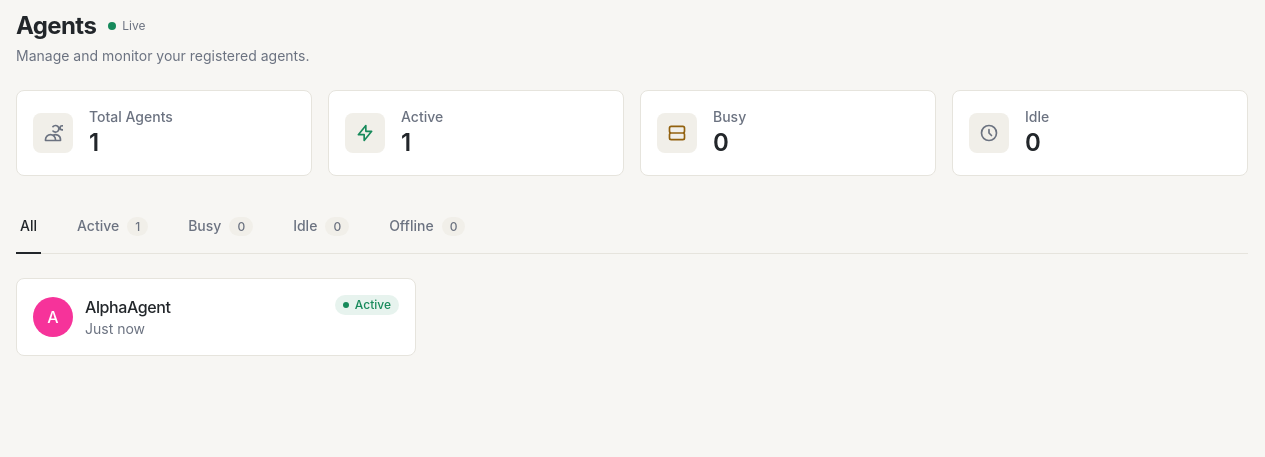
Test: AgentsDashboard › shows empty state when no agents match filter
Expected: the heading "AlphaAgent" is shown, [85,297,171,317]
Click on Busy filter tab (which has 0 agents).
Click the button "Busy0": x=221, y=227 [184,200,257,254]
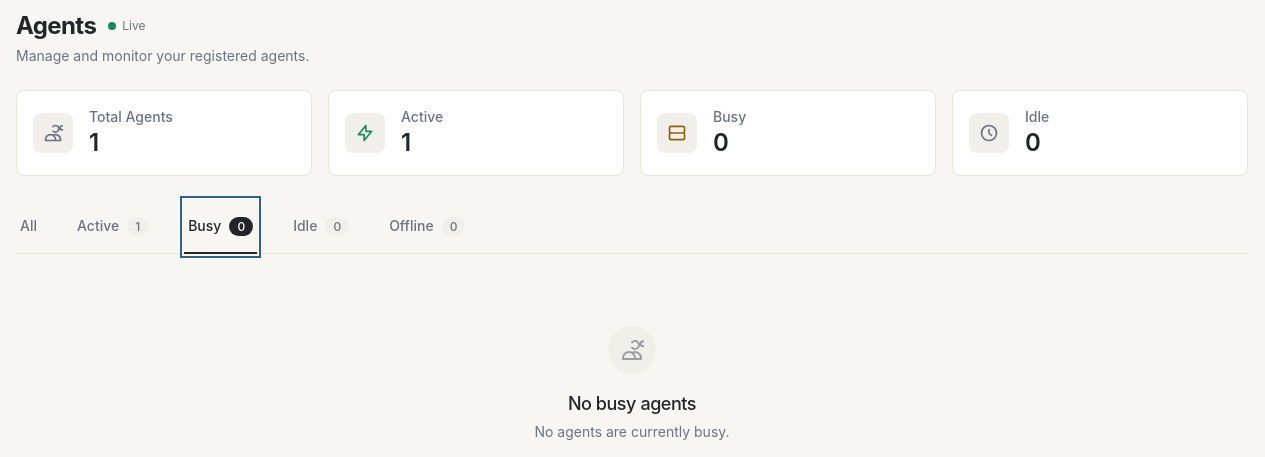
Now the heading "No busy agents" is shown, box [568,390,696,418]
